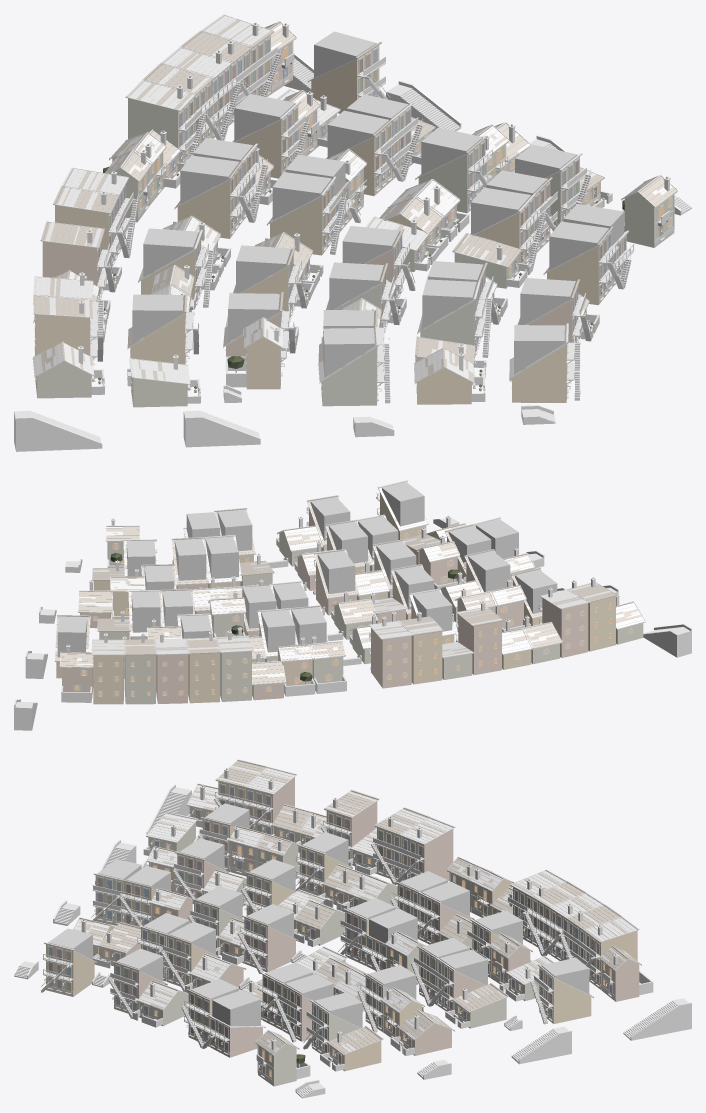
Rendered from bld_moradas_NO.glb.
The picture shows the model from 3 angles, top to bottom: view 1: azimuth 30°, elevation 25°; view 2: azimuth 150°, elevation 25°; view 3: azimuth 270°, elevation 25°; orthographic projection. The views are drawn at different scales.
Visible parts, largest first — view 1: Morada_NO_006_Body, Morada_NO_028_Body, STAIRS_Terrace_Lateral_Morada_NW_16, Morada_NO_034_Body, Morada_NO_047_Body, Morada_NO_060_Body, Morada_NO_041_Body, Morada_NO_040_Body, Morada_NO_067_Body, Morada_NO_071_Body, Morada_NO_003_Body, Morada_NO_001_Body (+82 smaller); view 2: Morada_NO_064_Body, Morada_NO_070_Body, Morada_NO_067_Body, Morada_NO_057_Body, Morada_NO_059_Body, Morada_NO_065_Body, Morada_NO_060_Body, Morada_NO_058_Body, Morada_NO_056_Body, Morada_NO_071_Body, Morada_NO_006_InteriorVolume, Morada_NO_023_InteriorVolume (+84 smaller); view 3: Morada_NO_041_Body, Morada_NO_023_Body, Morada_NO_064_Body, Morada_NO_006_Body, STAIRS_Terrace_Lateral_Morada_NW_12, Morada_NO_001_Body, Morada_NO_055_Body, Morada_NO_002_InteriorVolume, STAIRS_Terrace_Lateral_Morada_NW_11, Morada_NO_002_Body, Morada_NO_017_Body, Morada_NO_070_Body (+100 smaller).
Boxes of the visible parts, x1,y1,x2,y2 form: Morada_NO_006_Body: [511, 336, 580, 402]; Morada_NO_028_Body: [321, 339, 390, 406]; STAIRS_Terrace_Lateral_Morada_NW_16: [14, 410, 102, 451]; Morada_NO_034_Body: [270, 183, 346, 255]; Morada_NO_047_Body: [177, 167, 254, 238]; Morada_NO_060_Body: [128, 98, 205, 172]; Morada_NO_041_Body: [311, 45, 390, 113]; Morada_NO_040_Body: [225, 337, 286, 389]; Morada_NO_067_Body: [42, 241, 115, 299]; Morada_NO_071_Body: [34, 313, 103, 361]; Morada_NO_003_Body: [547, 231, 624, 305]; Morada_NO_001_Body: [621, 193, 674, 247]; Morada_NO_064_Body: [369, 628, 411, 688]; Morada_NO_070_Body: [538, 598, 588, 657]; Morada_NO_067_Body: [456, 615, 501, 675]; Morada_NO_057_Body: [124, 655, 155, 704]; Morada_NO_059_Body: [188, 653, 219, 703]; Morada_NO_065_Body: [411, 631, 442, 684]; Morada_NO_060_Body: [220, 651, 251, 701]; Morada_NO_058_Body: [156, 654, 187, 703]; Morada_NO_056_Body: [93, 655, 124, 704]; Morada_NO_071_Body: [588, 596, 615, 651]; Morada_NO_006_InteriorVolume: [382, 482, 424, 526]; Morada_NO_023_InteriorVolume: [317, 550, 355, 594]; Morada_NO_041_Body: [530, 967, 591, 1024]; Morada_NO_023_Body: [238, 918, 295, 973]; Morada_NO_064_Body: [394, 829, 453, 884]; Morada_NO_006_Body: [41, 944, 94, 996]; STAIRS_Terrace_Lateral_Morada_NW_12: [623, 998, 691, 1040]; Morada_NO_001_Body: [256, 1043, 310, 1086]; Morada_NO_055_Body: [601, 959, 653, 1001]; Morada_NO_002_InteriorVolume: [212, 990, 260, 1026]; STAIRS_Terrace_Lateral_Morada_NW_11: [511, 1026, 571, 1064]; Morada_NO_002_Body: [202, 1017, 262, 1057]; Morada_NO_017_Body: [390, 1023, 451, 1055]; Morada_NO_070_Body: [243, 777, 294, 834].
Size of what is drawn, in the model's own units: 128 by 17.3 by 128.
23 materials, 19 textured.
